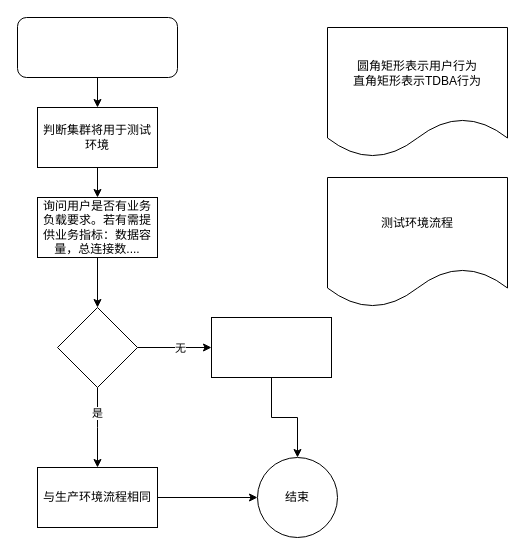
The diagram is 525 pixels wide and 555 high, and some of its shapes have lost their labels. Here are the shapes that lost their labels. From the top down, the centre of each, then its label:
pixel 97 47: 用户发起数据库部署规划请求
pixel 97 347: 是否有业务负载要求
pixel 271 347: 与开发环境流程相同
